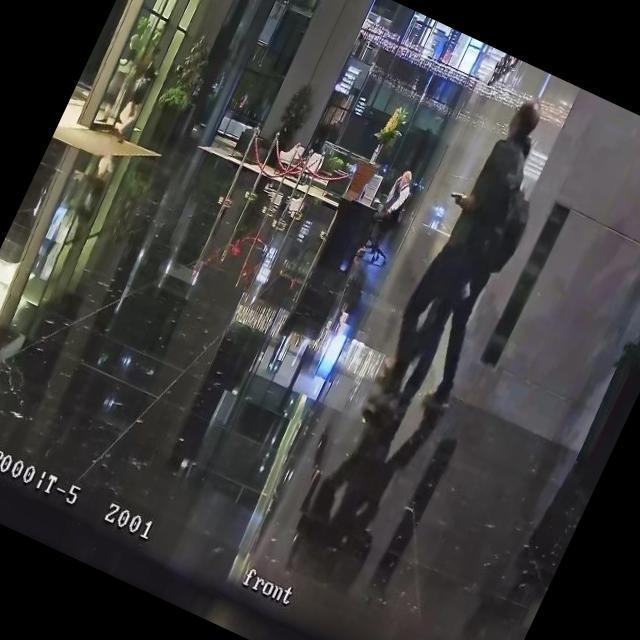person: (370, 89, 582, 421), (368, 86, 557, 408), (388, 127, 568, 418), (103, 42, 169, 148), (92, 30, 146, 123), (378, 166, 421, 224)
